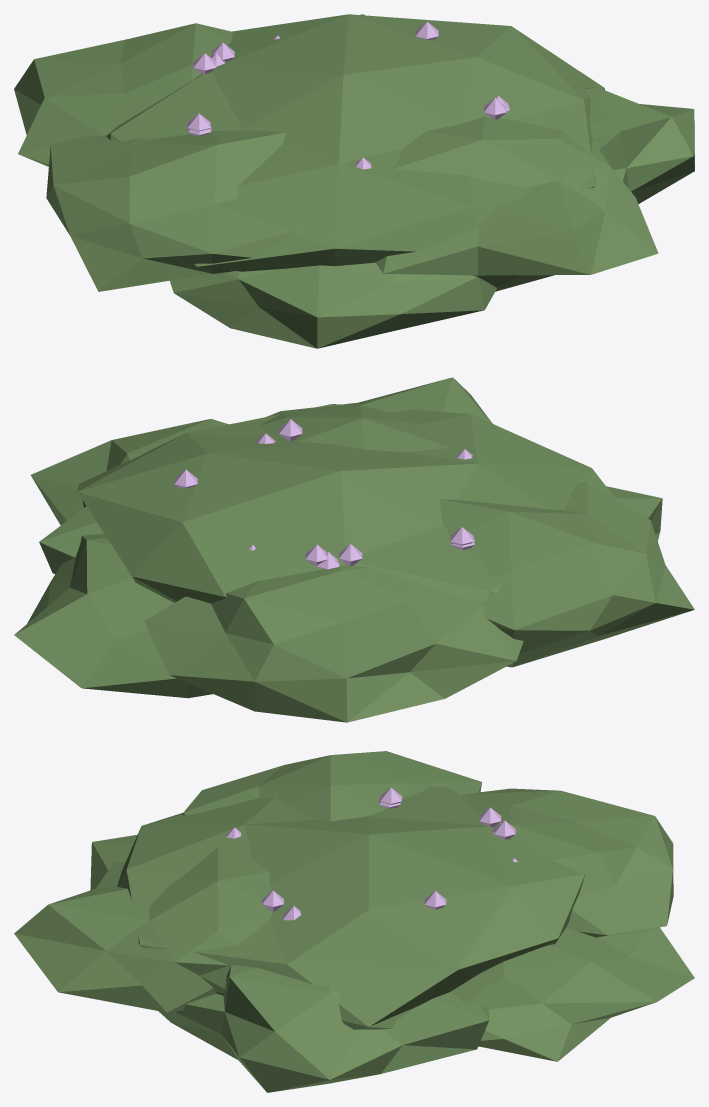
File: thyme.glb
3 views of the same model, one above another, from view 1: azimuth 30°, elevation 25°; view 2: azimuth 150°, elevation 25°; view 3: azimuth 270°, elevation 25° (orthographic). The views are drawn at different scales.
Visible parts, largest first — view 1: thyme; view 2: thyme; view 3: thyme.
Part boxes in pixels (x1,y1,x2,y2): thyme: [14, 14, 694, 348]; thyme: [14, 377, 694, 722]; thyme: [14, 751, 694, 1092].
Size of the model in its own units: 0.6571 by 0.1573 by 0.6543.
